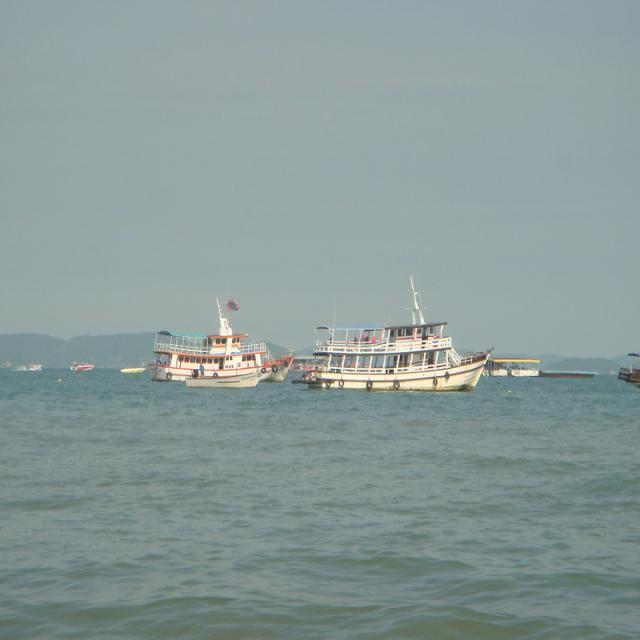houseboat: (295, 275, 497, 395), (141, 294, 285, 387)
